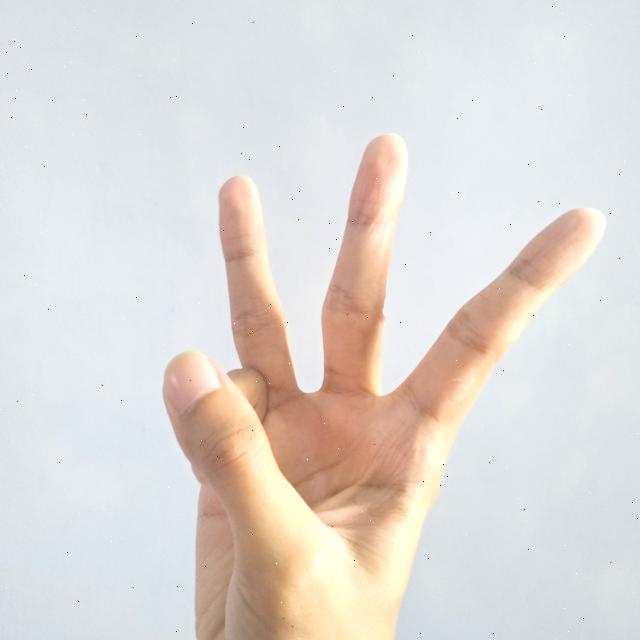W: (147, 125, 619, 640)
